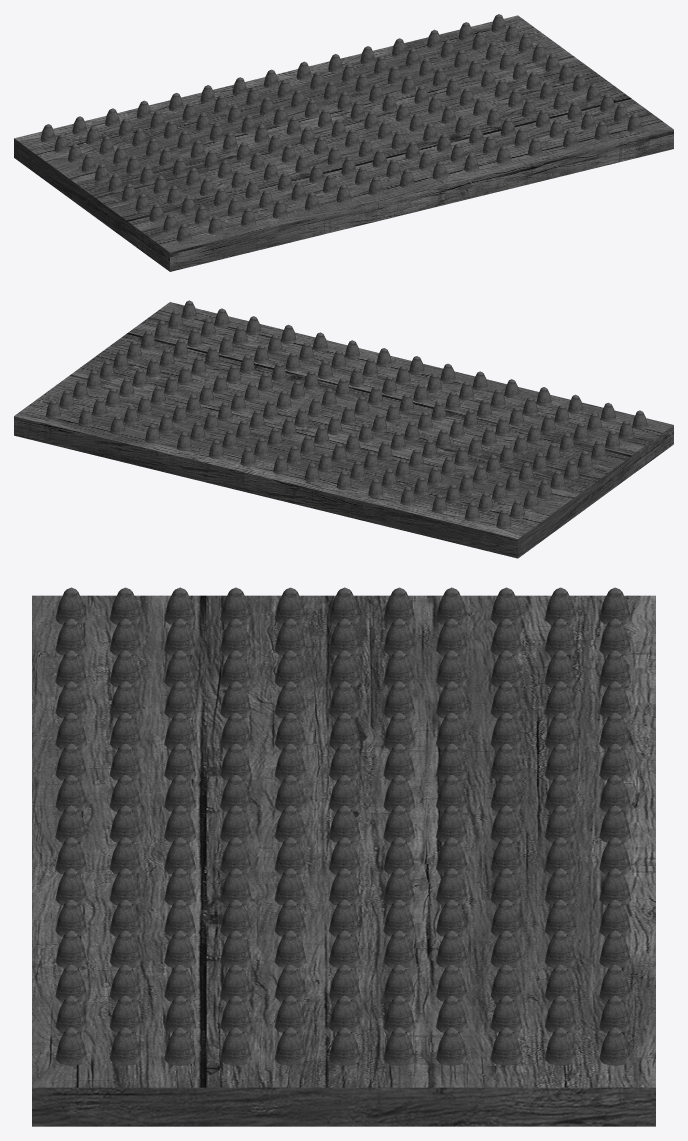
Rendered from WoodBoard.fbx.
The picture shows the model from 3 angles, top to bottom: view 1: azimuth 30°, elevation 25°; view 2: azimuth 150°, elevation 25°; view 3: azimuth 270°, elevation 25°; orthographic projection. The views are drawn at different scales.
Visible parts, largest first — view 1: WoodBoard1, Spike1; view 2: WoodBoard1, Spike1; view 3: WoodBoard1, Spike1.
Boxes of the visible parts, x1,y1,x2,y2 form: WoodBoard1: [14, 15, 673, 271]; Spike1: [40, 14, 642, 242]; WoodBoard1: [14, 302, 673, 558]; Spike1: [45, 300, 647, 528]; WoodBoard1: [32, 595, 655, 1126]; Spike1: [55, 587, 631, 1065].
Size of the model in its own units: 9.34 by 0.6268 by 5.01.
